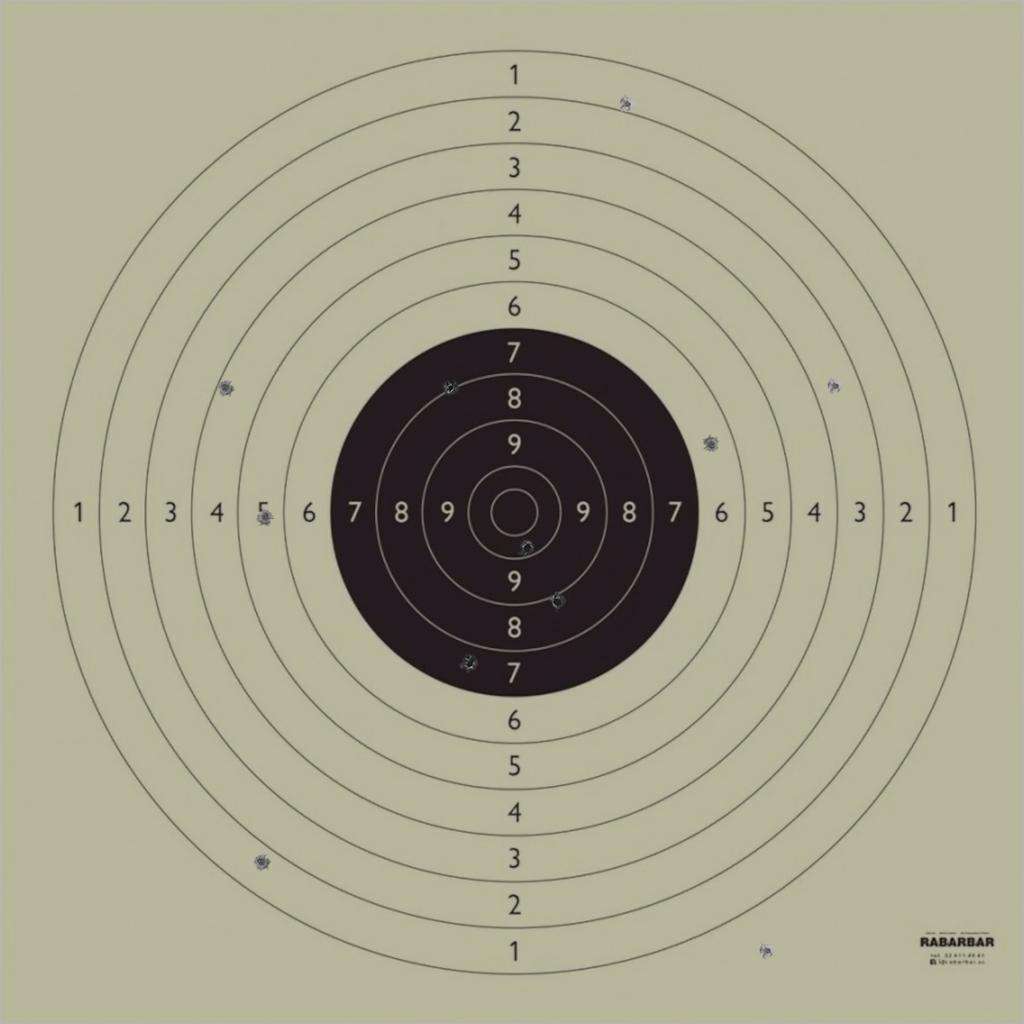0 punktow: (758, 942, 776, 960)
1 punkt: (252, 853, 271, 871)
10 punktow: (518, 539, 536, 557)
2 punkty: (618, 95, 636, 113)
3 punkty: (826, 377, 844, 395)
4 punkty: (216, 379, 235, 397)
5 punktow: (256, 508, 275, 526)
6 punktow: (702, 435, 720, 454)
7 punktow: (460, 655, 479, 673)
8 punktow: (441, 379, 460, 397)
9 punktow: (548, 593, 566, 611)
